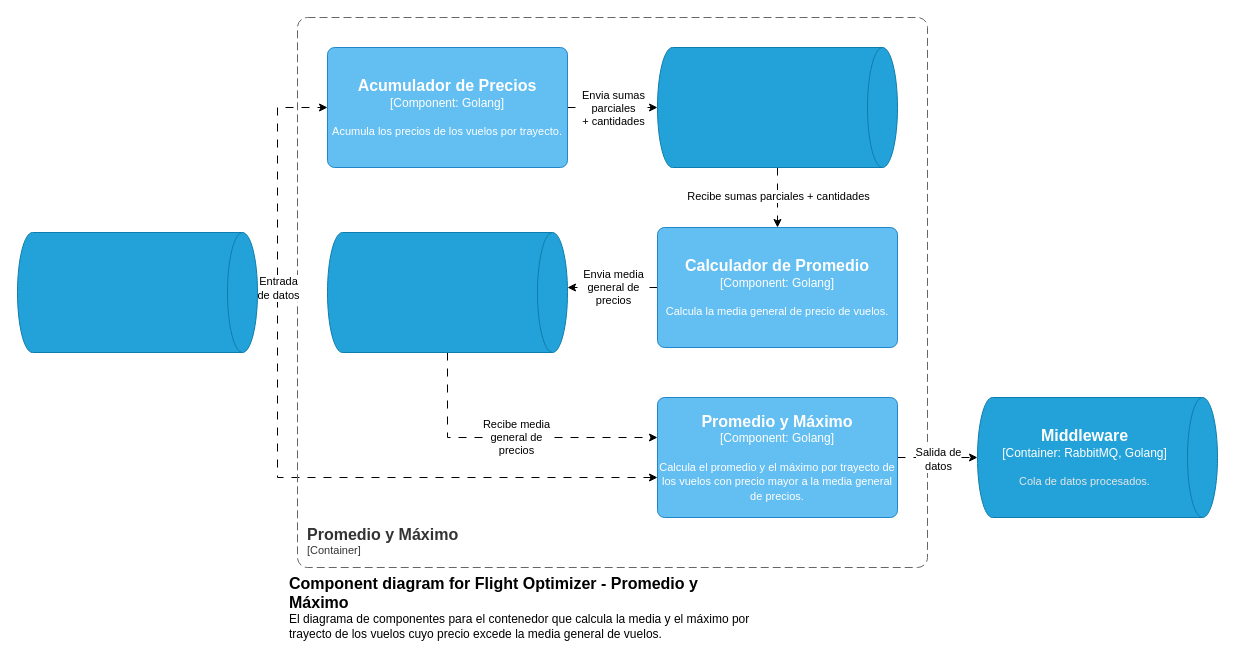
This 1235x659 diagram has some shape labels left out. The centre of each missing label's shape, as x and y in pixels:
"Middleware [Container: RabbitMQ, Golang] Cola de datos parseados." goes at (x=137, y=292).
"Middleware [Container: RabbitMQ, Golang] Cola de media general de precios." goes at (x=447, y=292).
"Middleware [Container: RabbitMQ, Golang] Cola de sumas parciales con cantidades." goes at (x=777, y=107).
